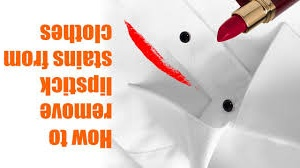lipstick: (121, 22, 162, 64), (156, 55, 193, 87)
